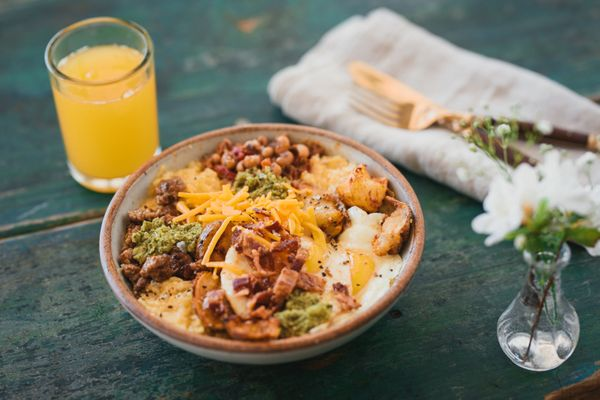curry: (126, 216, 203, 263)
sushi: (97, 124, 425, 364)
